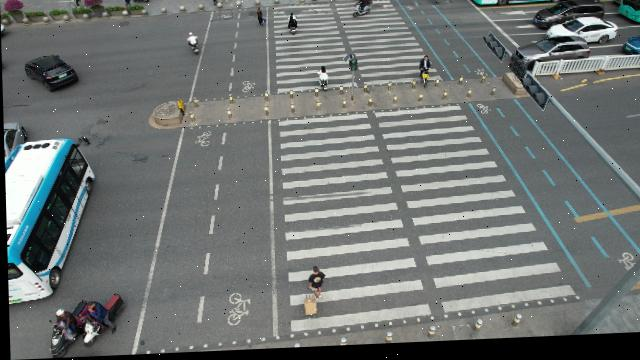non-motor-vehicle: (48, 300, 89, 358), (84, 294, 121, 350), (353, 0, 374, 20), (186, 33, 200, 58), (316, 70, 330, 94), (287, 15, 299, 38), (420, 66, 430, 92), (68, 0, 88, 8), (133, 0, 149, 4)
person: (301, 266, 325, 322), (254, 10, 263, 32), (122, 0, 133, 8), (210, 0, 219, 6), (220, 0, 228, 6), (227, 0, 234, 2)
